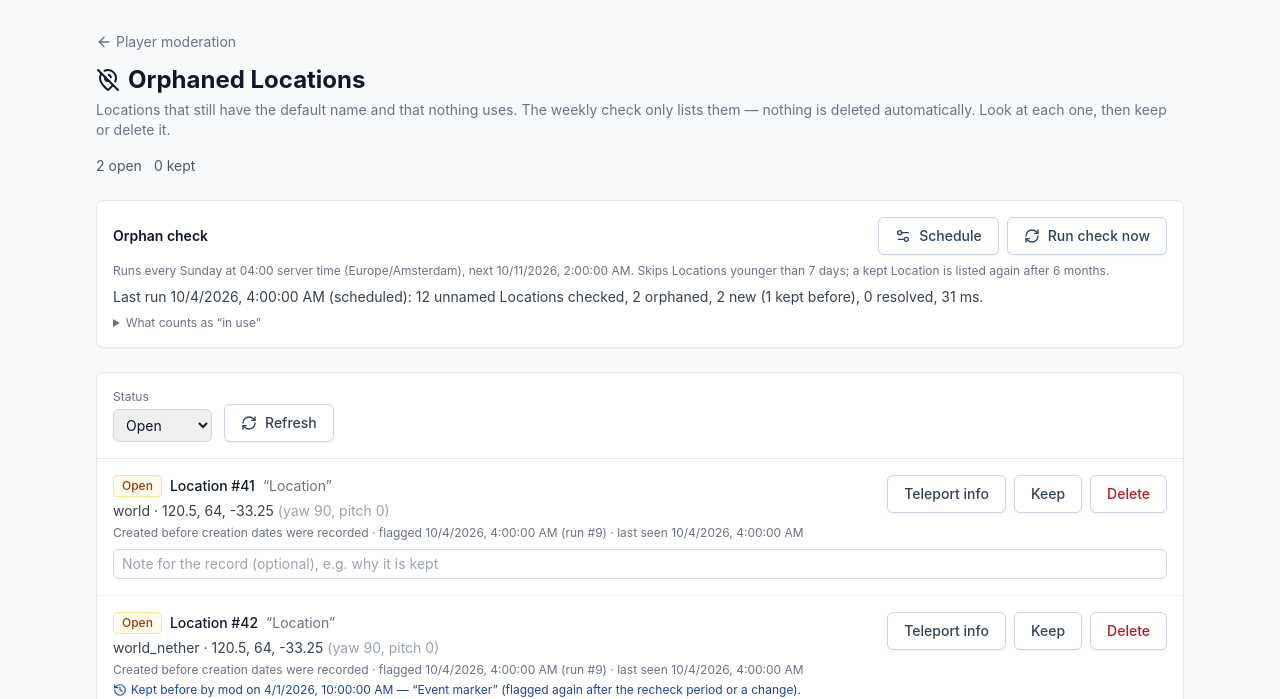
Test: LocationRetentionPage › keeps an orphan after confirming
The width and height of the screenshot is (1280, 699).
Expected: the text "Location #41" is shown, [170, 476, 255, 496]
Click the button with aria-label "Keep Location 41": (1048, 494) [1014, 475, 1082, 513]
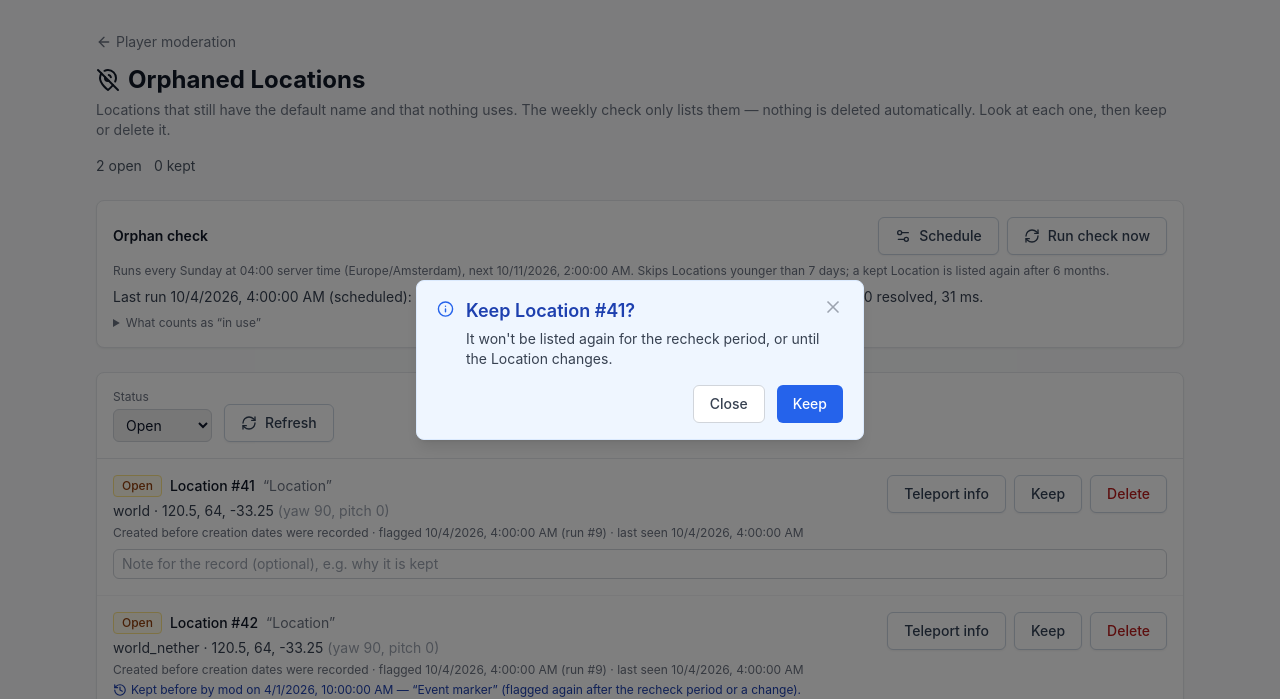
Click the button "Keep": (810, 404) [777, 385, 843, 423]
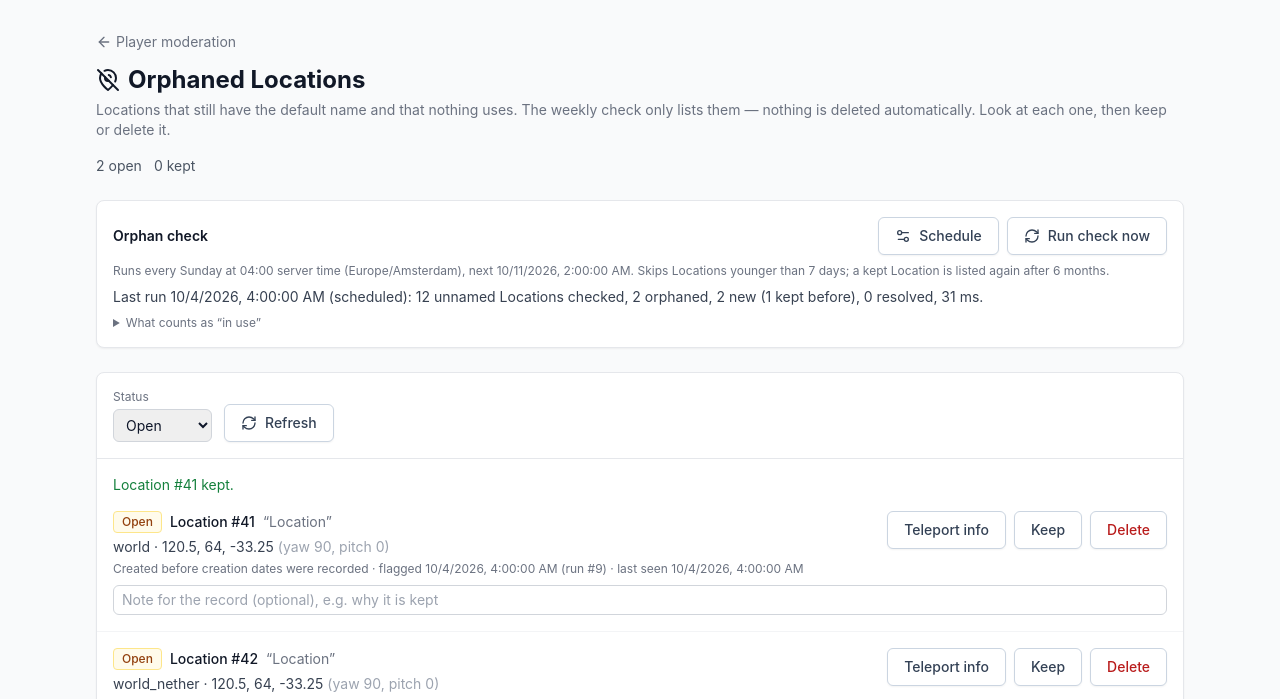
Expected: the message reads "Location #41 kept.", [113, 476, 234, 493]
